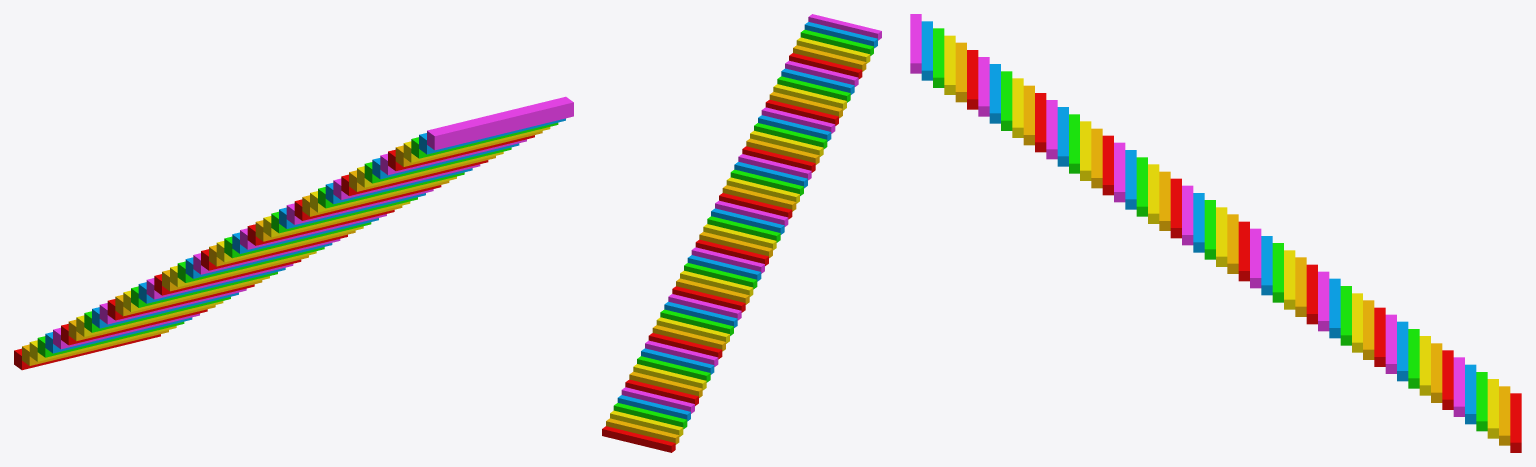
File: lestnica1.fbx
3 views of the same model, side by side, from view 1: azimuth 30°, elevation 25°; view 2: azimuth 150°, elevation 25°; view 3: azimuth 270°, elevation 25° (orthographic). The views are drawn at different scales.
Visible parts, largest first — view 1: Cube.003; view 2: Cube.003; view 3: Cube.003.
Boxes of the visible parts, left/top/right/bottom form: Cube.003: left=14, top=96, right=573, bottom=370; Cube.003: left=602, top=14, right=881, bottom=452; Cube.003: left=910, top=14, right=1521, bottom=452.
Size of the model in its own units: 669 by 2465 by 3505.
